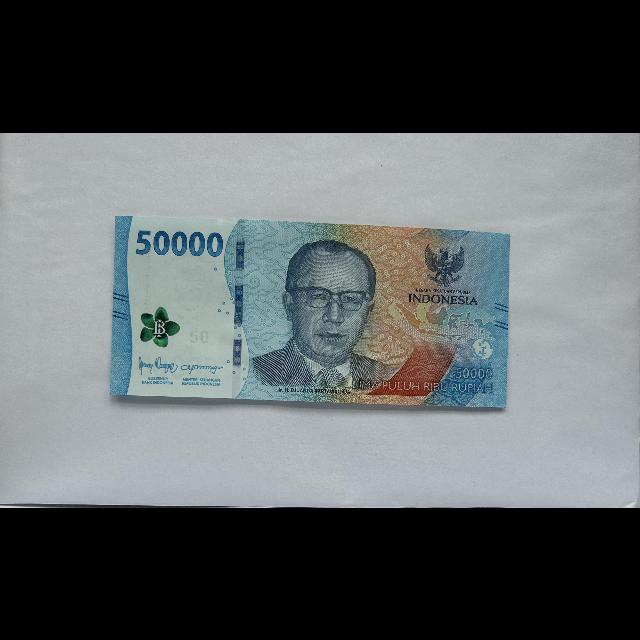Asli-50k: (105, 211, 519, 415)
Tinta-Asli-50k: (140, 305, 181, 348)
